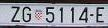-: (89, 13, 94, 17)
1: (59, 6, 64, 24), (70, 7, 75, 23)
4: (78, 7, 88, 23)
5: (45, 7, 55, 23)
E: (96, 7, 105, 22)
G: (22, 6, 32, 22)
Z: (11, 6, 20, 22)
